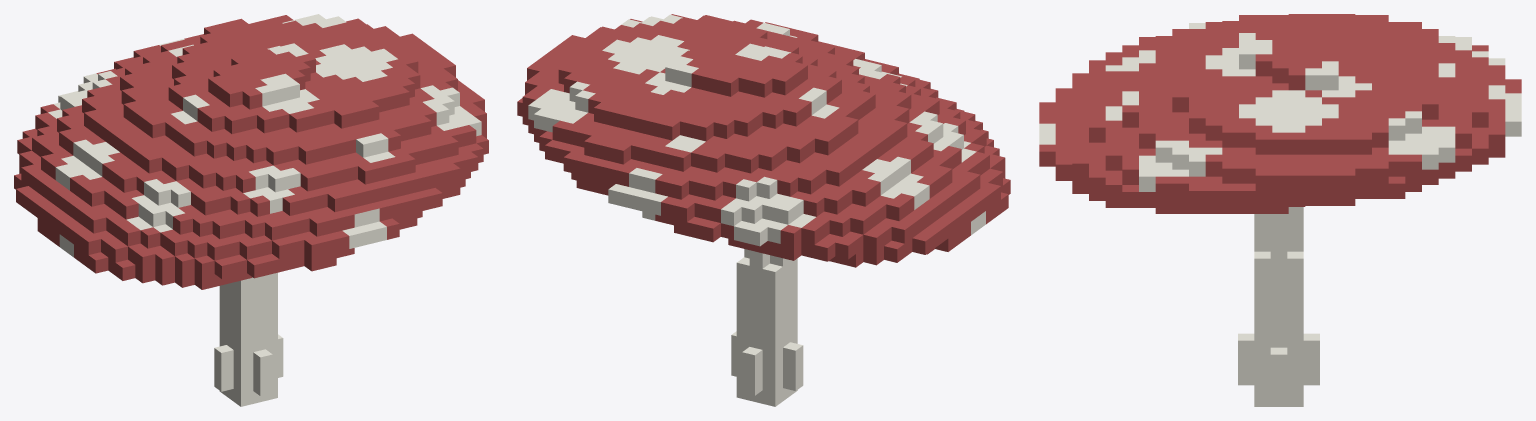
The model's file is PadastoelPlaceholder.fbx.
3 renders of one model, left to right at view 1: azimuth 30°, elevation 25°; view 2: azimuth 150°, elevation 25°; view 3: azimuth 270°, elevation 25°, orthographic. The views are drawn at different scales.
Parts seen in each view (by area): view 1: Cube.002, Cube; view 2: Cube.002, Cube; view 3: Cube.002, Cube.
Part boxes in pixels (x1,y1,x2,y2): Cube.002: (14, 14, 488, 289); Cube: (214, 272, 283, 406); Cube.002: (517, 14, 1010, 267); Cube: (731, 249, 803, 406); Cube.002: (1039, 14, 1521, 213); Cube: (1238, 207, 1319, 406).
Bounding box in the file's own units: 334 × 258 × 312.
